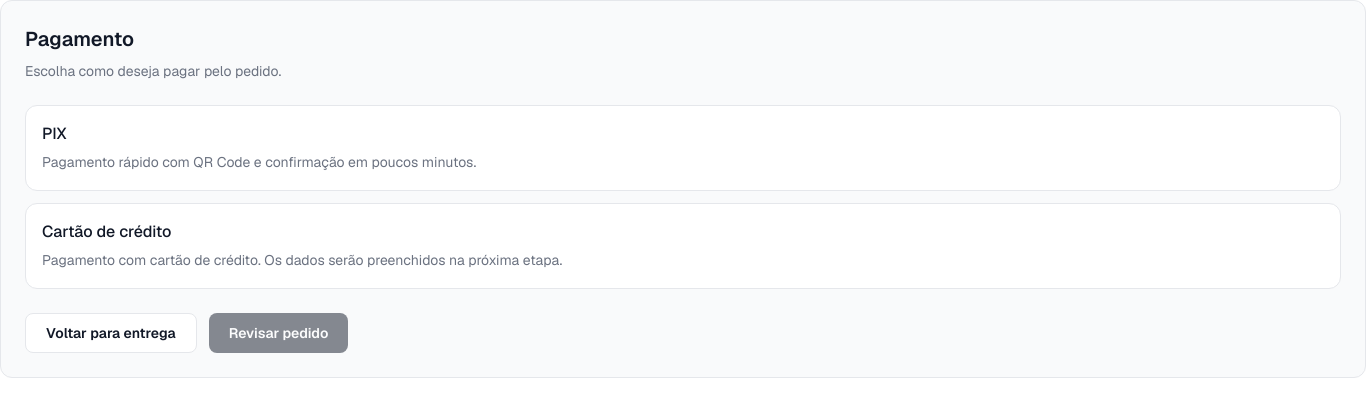
Test: CheckoutPayment › deve habilitar o botão ao selecionar PIX
Click the radio button labelled "PIX" at (259,162), box [25,105,1341,191]
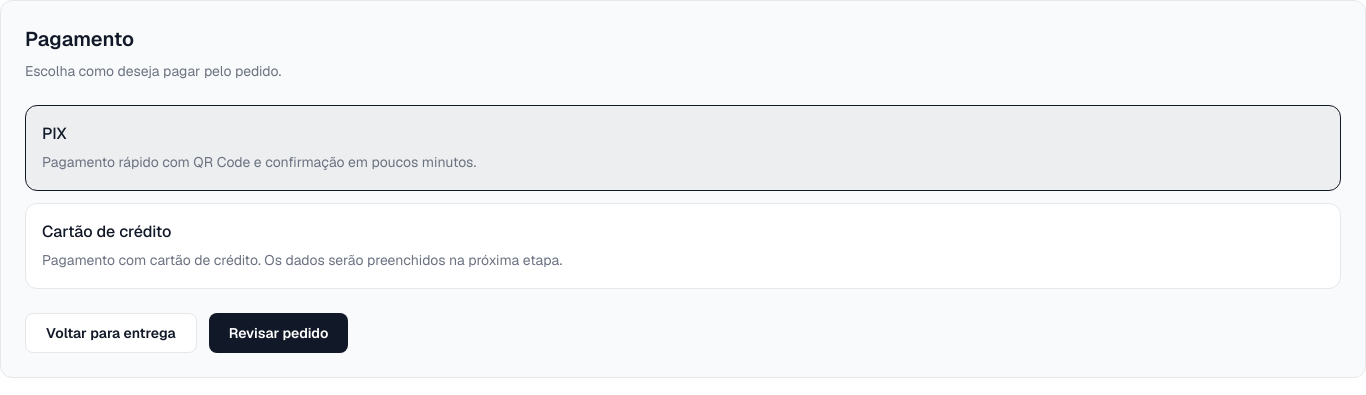
Result: the button "Revisar pedido" is enabled at [209,313,348,353]
